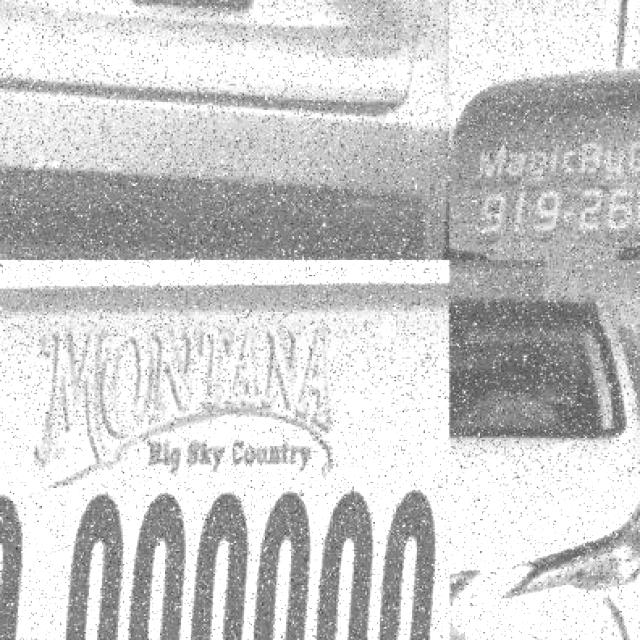licenseplate: (0, 468, 449, 640), (134, 0, 267, 31)
